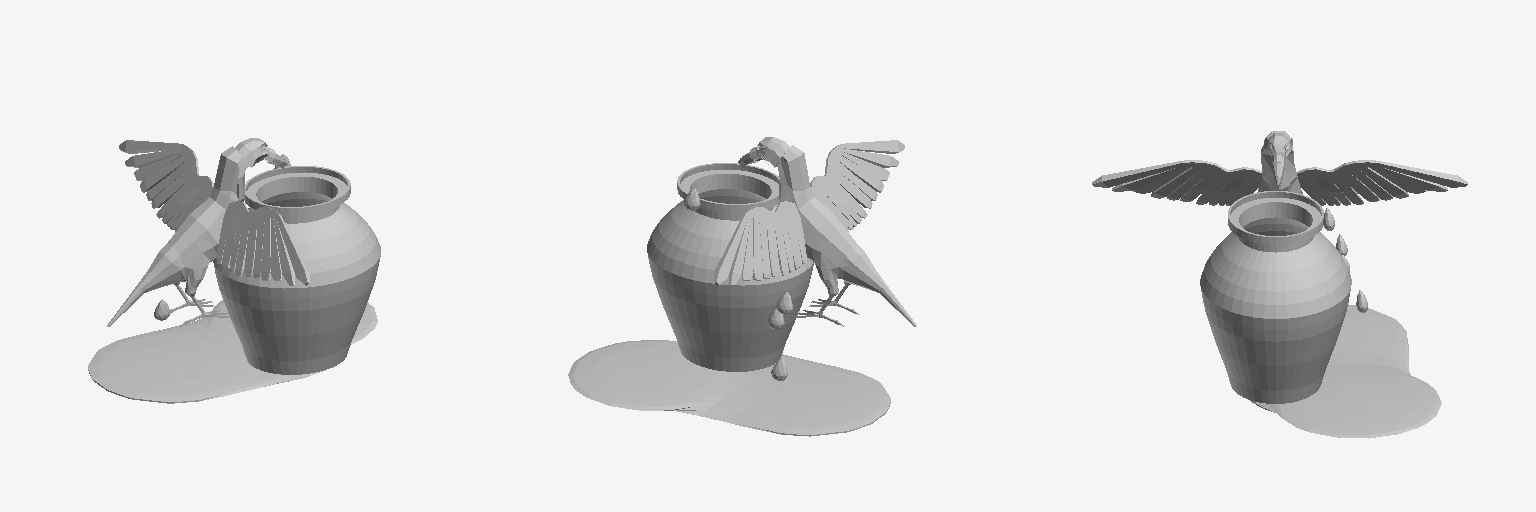
The model's file is bheegahuakaua7.obj.
The picture shows the model from 3 angles: view 1: azimuth 30°, elevation 25°; view 2: azimuth 150°, elevation 25°; view 3: azimuth 270°, elevation 25°; orthographic projection.
Parts seen in each view (by area): view 1: Circle, Cylinder, Mball; view 2: Circle, Mball, Cylinder; view 3: Circle, Mball, Cylinder.
Boxes of the visible parts, x1=… form: Circle: x1=213, y1=166, x2=380, y2=374; Cylinder: x1=107, y1=138, x2=309, y2=326; Mball: x1=88, y1=300, x2=377, y2=403; Circle: x1=647, y1=163, x2=813, y2=371; Mball: x1=568, y1=340, x2=890, y2=436; Cylinder: x1=714, y1=137, x2=916, y2=326; Circle: x1=1200, y1=191, x2=1351, y2=403; Mball: x1=1250, y1=304, x2=1441, y2=438; Cylinder: x1=1092, y1=131, x2=1467, y2=205.
Bounding box in the file's own units: 1.18 × 0.8898 × 1.28.